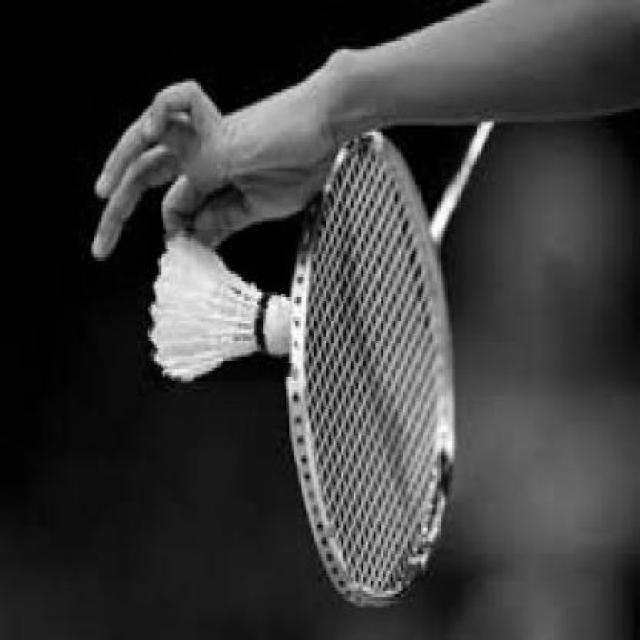Shuttlecock: (147, 229, 296, 382)
